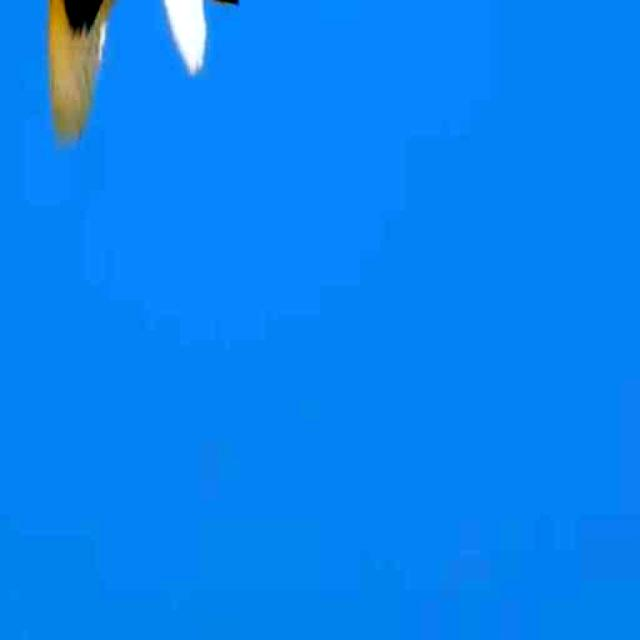airplane: (31, 0, 235, 132)
